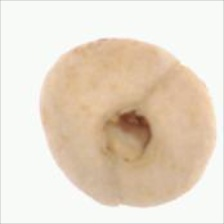L3: (100, 107, 153, 164)
L4: (39, 38, 217, 208)
